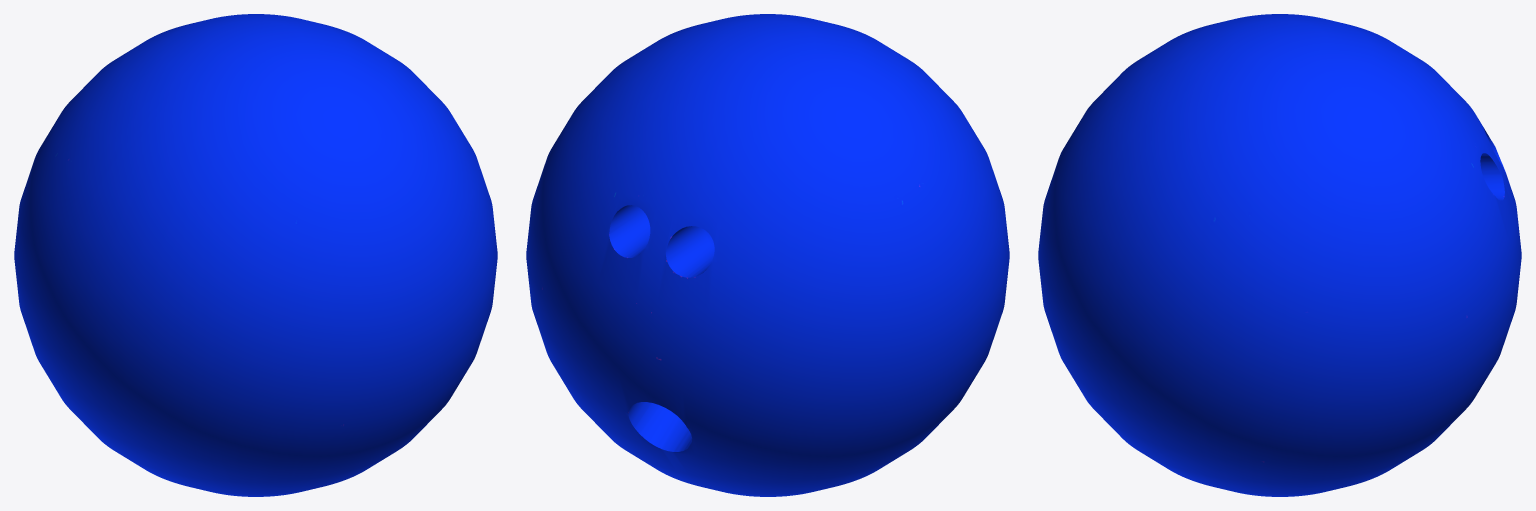
Rendered from BowlingBall.obj.
3 views of the same model, side by side, from view 1: azimuth 30°, elevation 25°; view 2: azimuth 150°, elevation 25°; view 3: azimuth 270°, elevation 25° (orthographic).
Visible parts, largest first — view 1: Straightball1; view 2: Straightball1; view 3: Straightball1.
Boxes of the visible parts, x1,y1,x2,y2 form: Straightball1: [14, 14, 497, 496]; Straightball1: [526, 14, 1009, 496]; Straightball1: [1038, 14, 1521, 496].
Size of the model in its own units: 4 by 4 by 4.
Materials: 1 (1 with a texture image).
